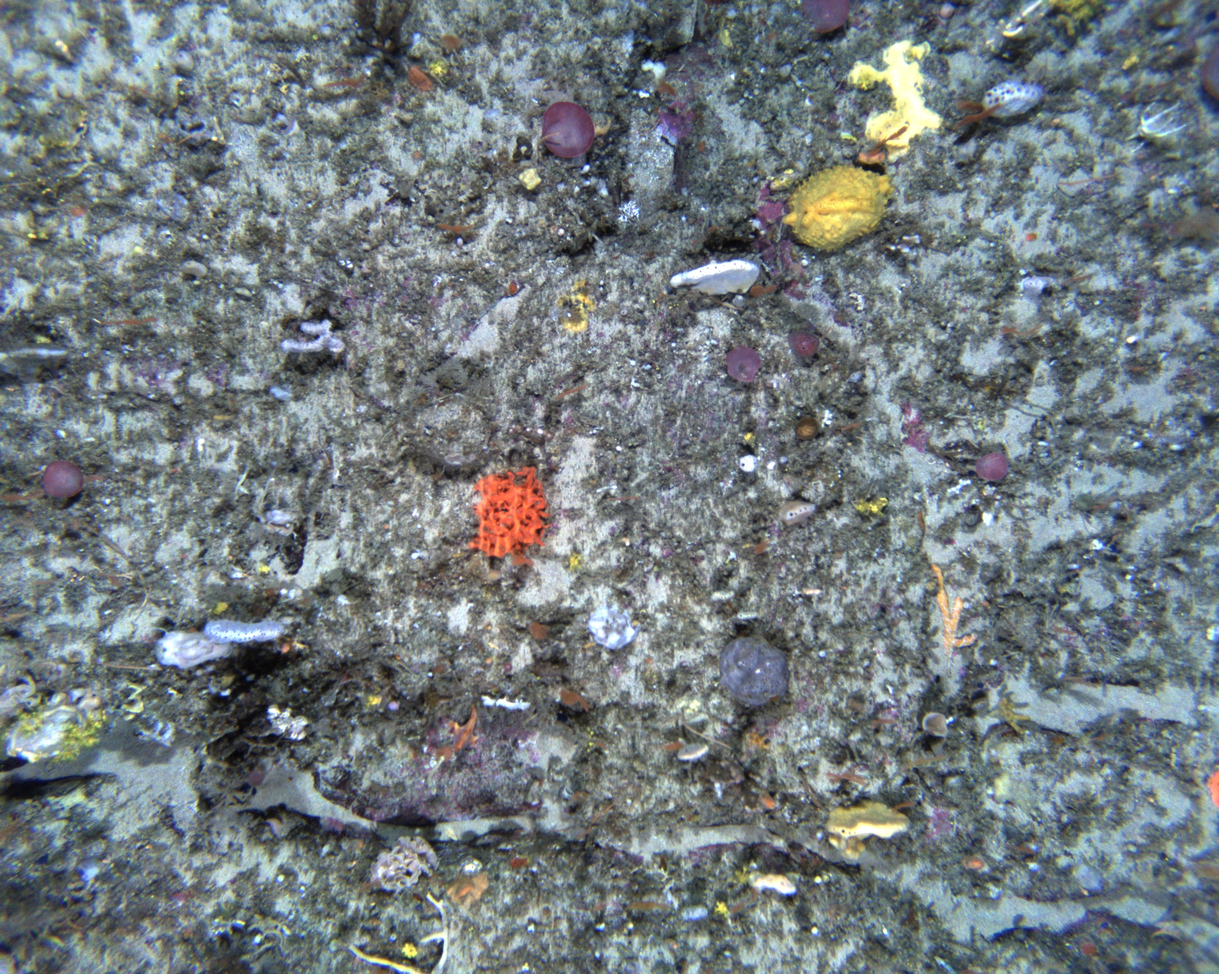Brachionichthyidae: (447, 700, 481, 753)
